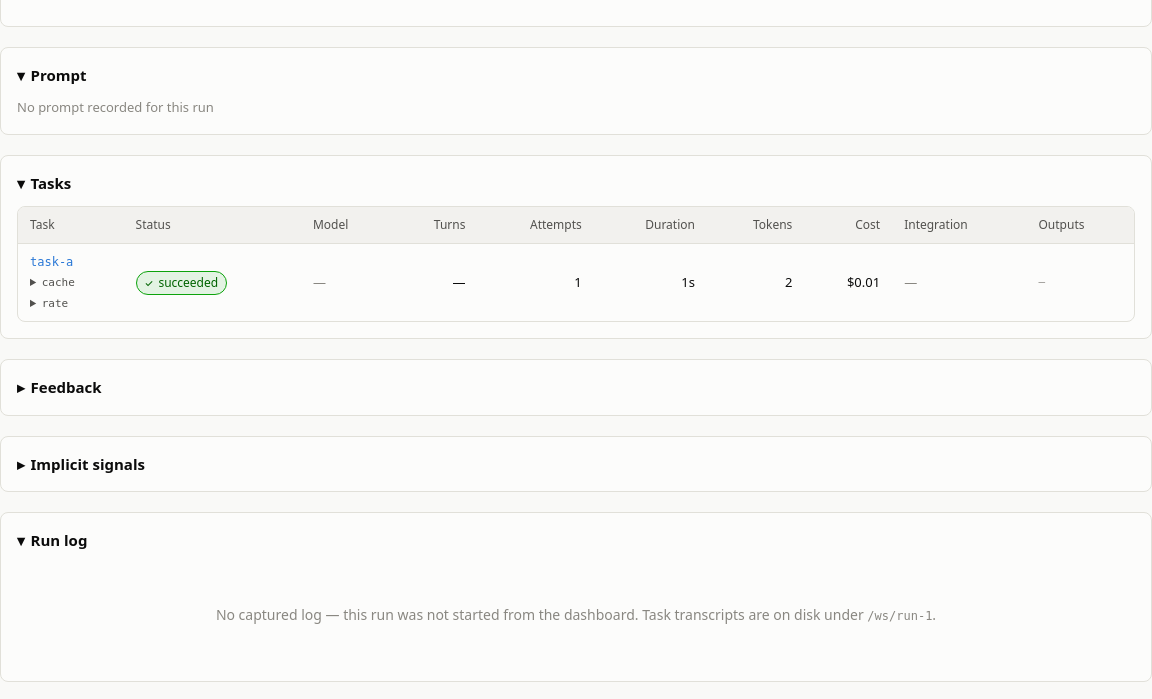
Scenario: run-level feedback › surfaces API errors in the banner
(page scrolled)
Click the button "▸ Feedback" at (59, 387), box [17,376,102,399]
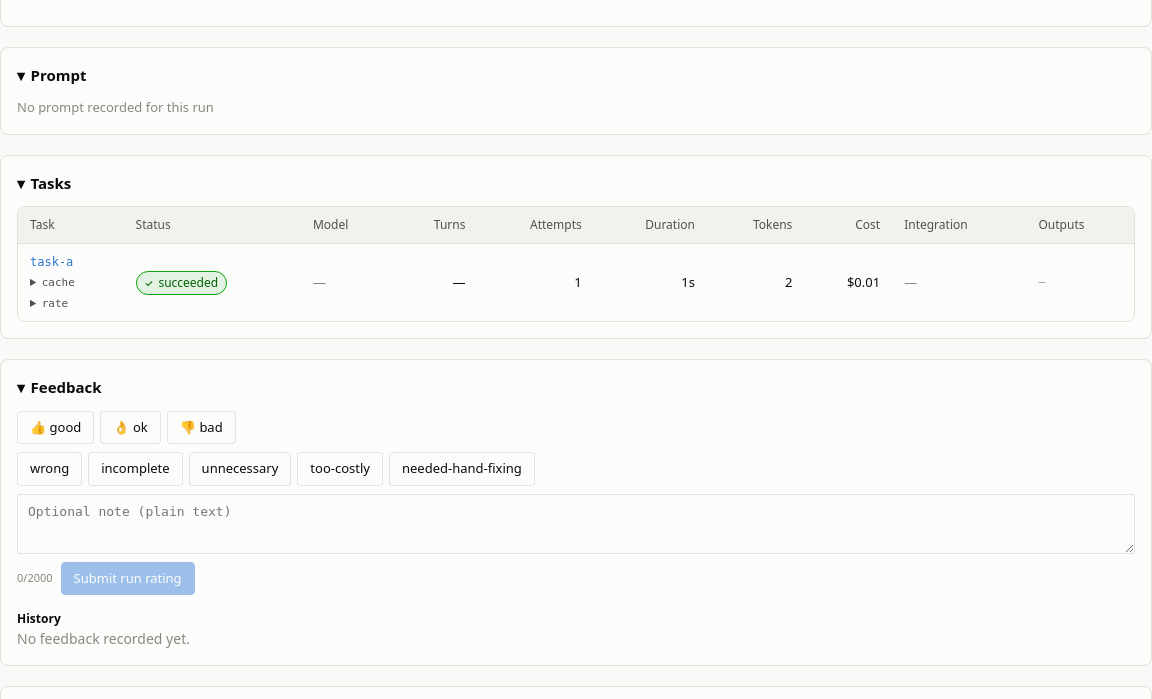
Click the button "👌 ok" at (130, 427), box [100,411,161,444]
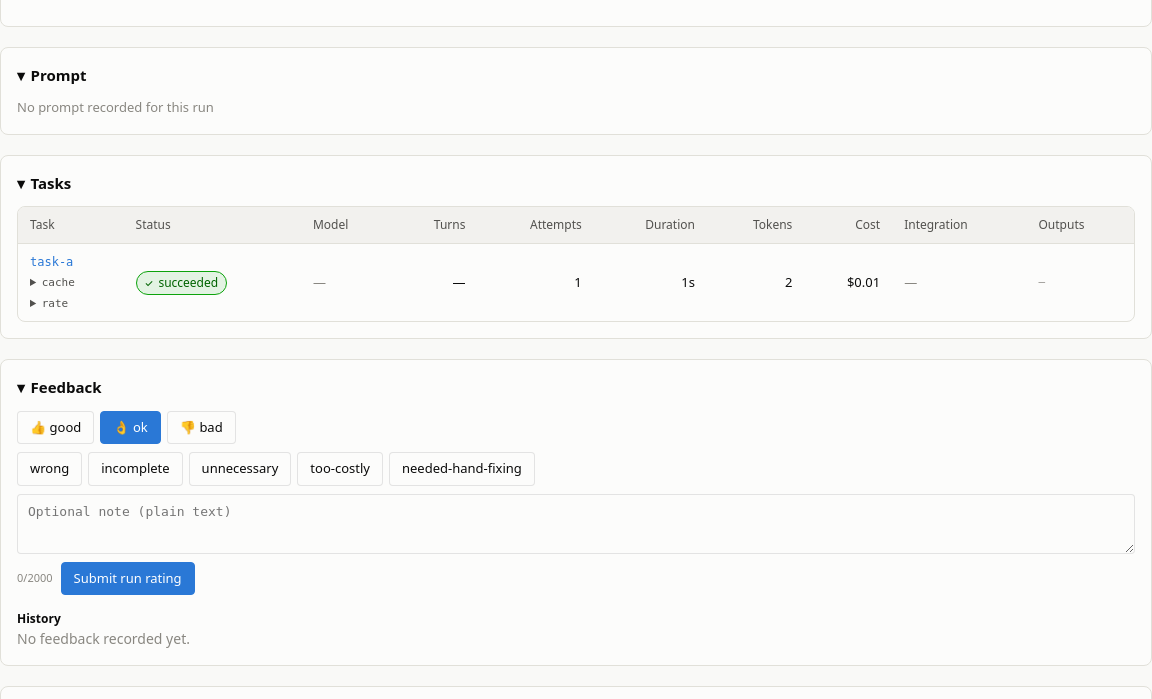
Click the button "Submit run rating" at (128, 578), box [61,562,195,595]
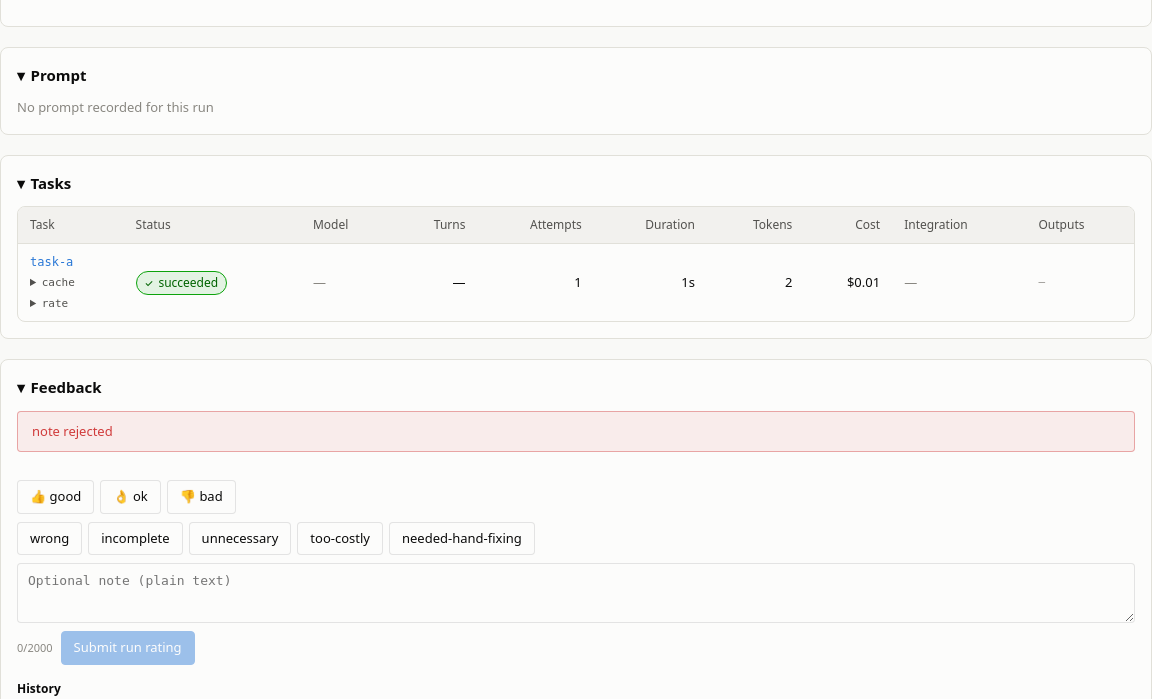
Expected: the text "note rejected" is shown, [17,411,1135,452]
